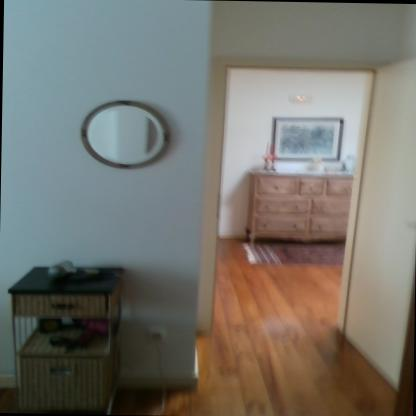open: (196, 41, 402, 413)
